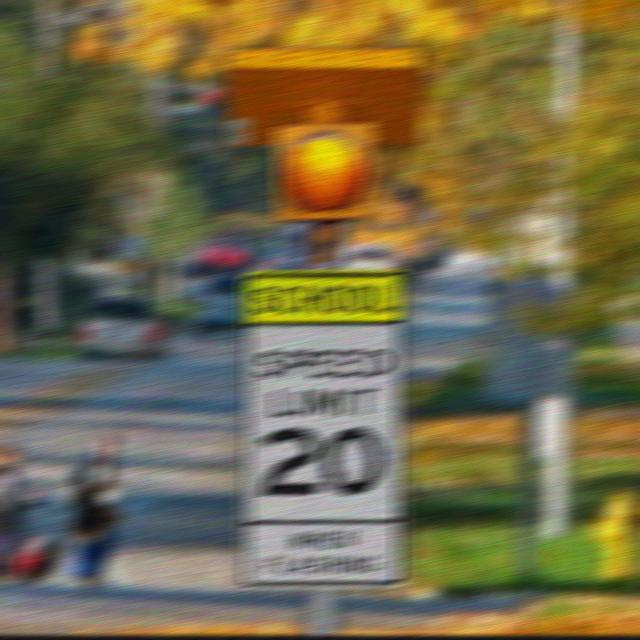speedLimit20: (240, 322, 400, 523)
